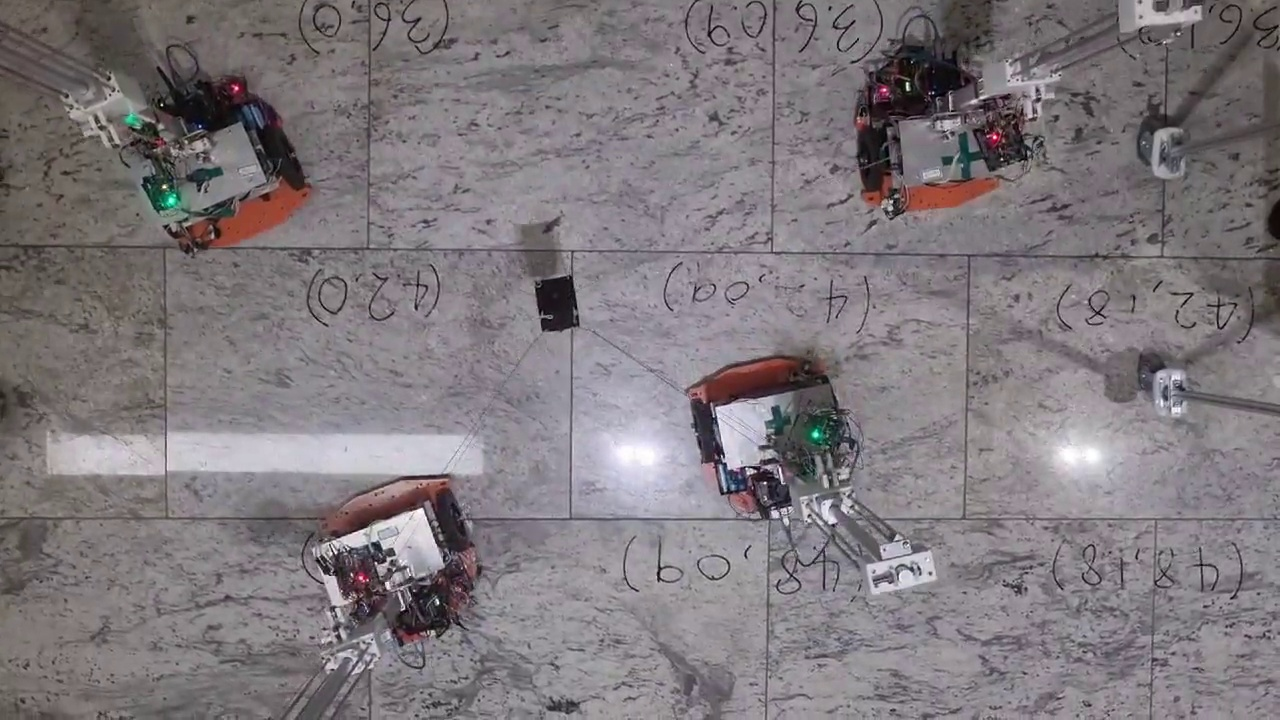e0: (533, 275, 580, 332)
r1: (690, 377, 843, 459)
r2: (857, 111, 1013, 194)
r3: (143, 125, 304, 227)
r4: (315, 490, 468, 587)
y_+_axis_vector: (772, 252, 1162, 256)
y_-_axis_vector: (368, 248, 772, 253)
